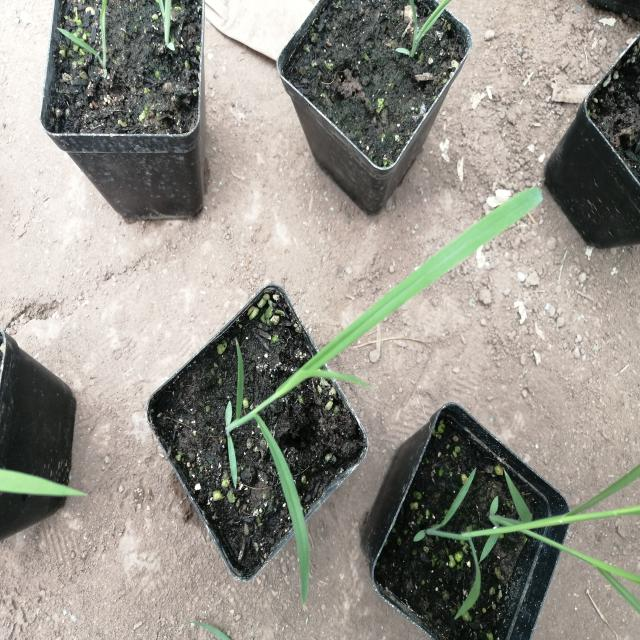crabgrass: (218, 187, 538, 530)
